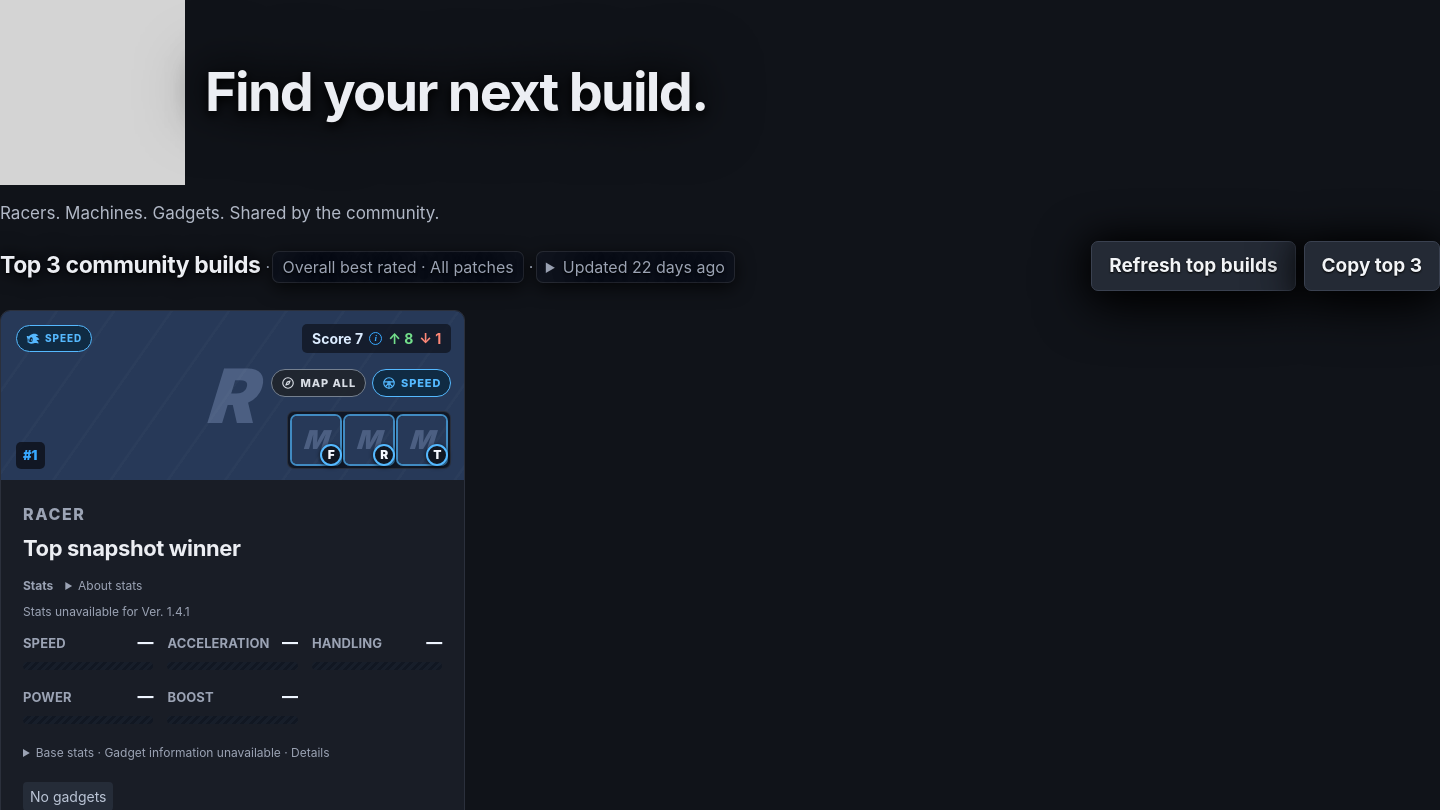
Test: keeps loaded showcase on refresh failure and retries independently
This screenshot has width=1440, height=810.
Expected: the link "Top snapshot winner" is shown, [23,535,240,561]
Click the button "Refresh top builds" at [1193, 266], box [1091,240,1296,291]
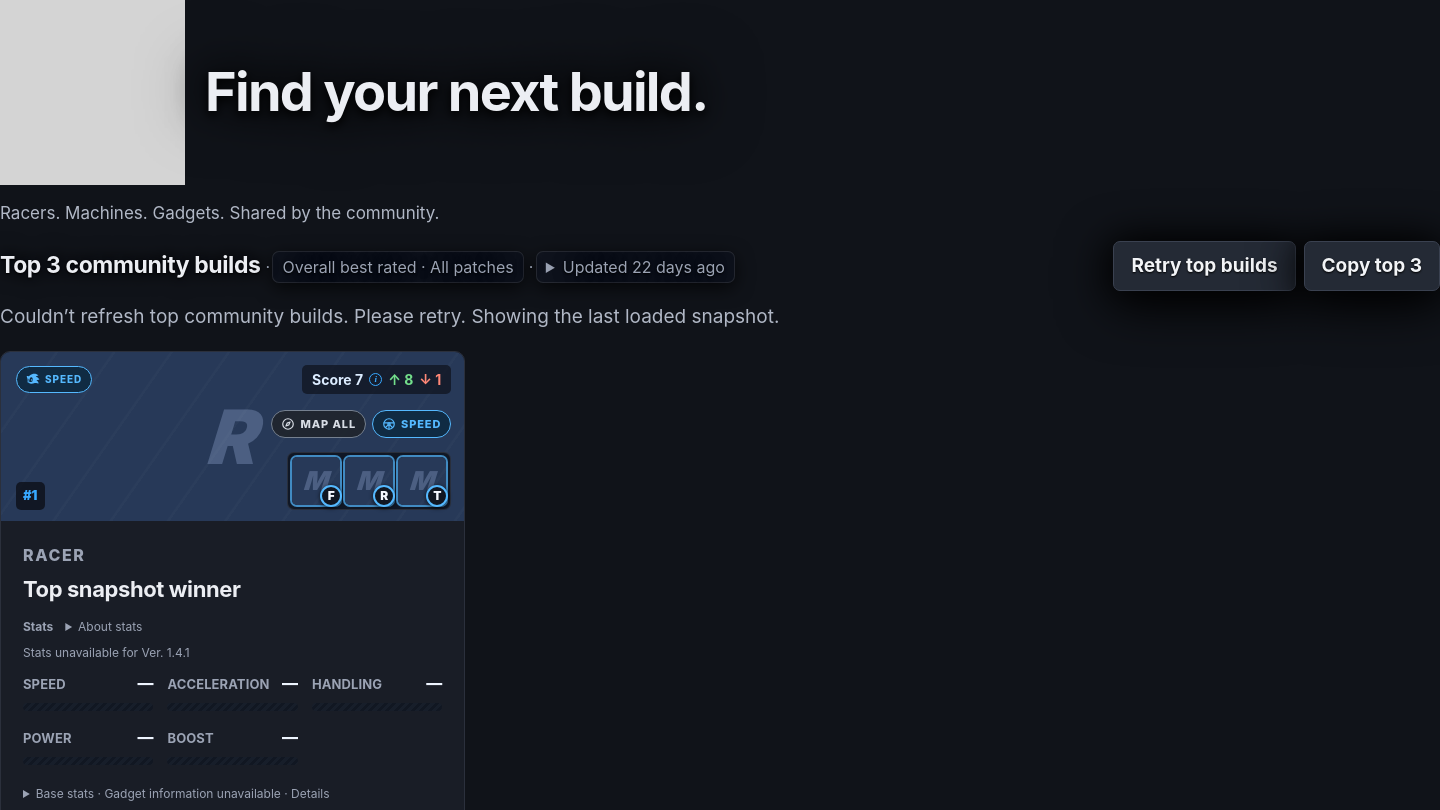
Expected: the link "Top snapshot winner" is shown, [23,576,240,602]
Result: the text "Showing the last loaded snapshot" is shown at [466,305,779,328]
Click the button "Retry top builds" at [1204, 266], box [1113,240,1296,291]
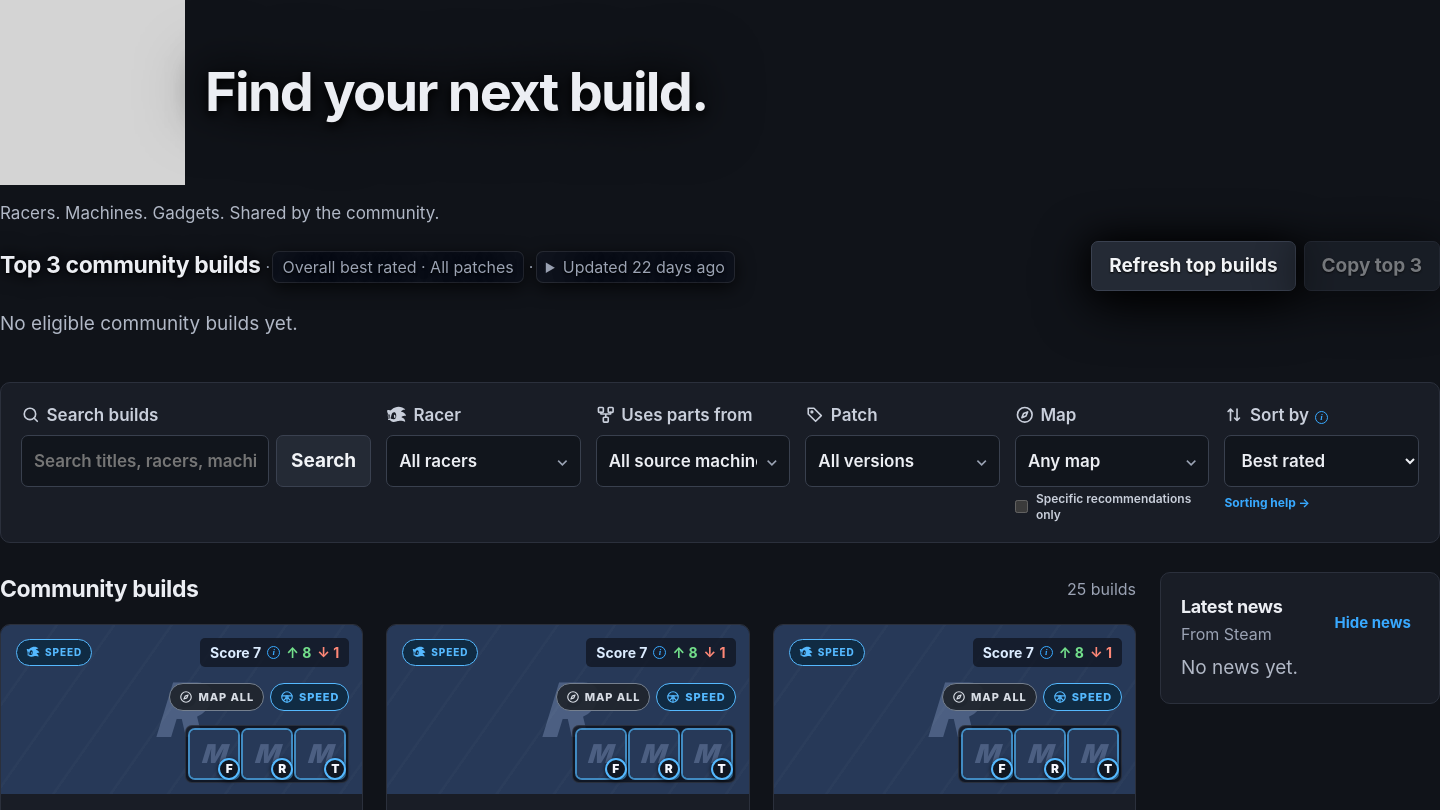
Result: the text "No eligible community builds yet." is shown at [0,312,298,335]
